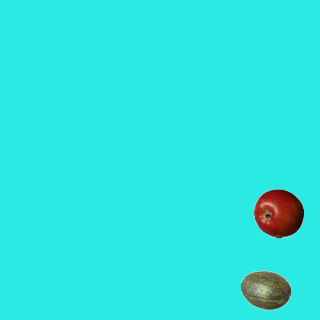Apple Braeburn: (253, 188, 303, 238)
Melon Piel de Sapo: (240, 265, 290, 315)
